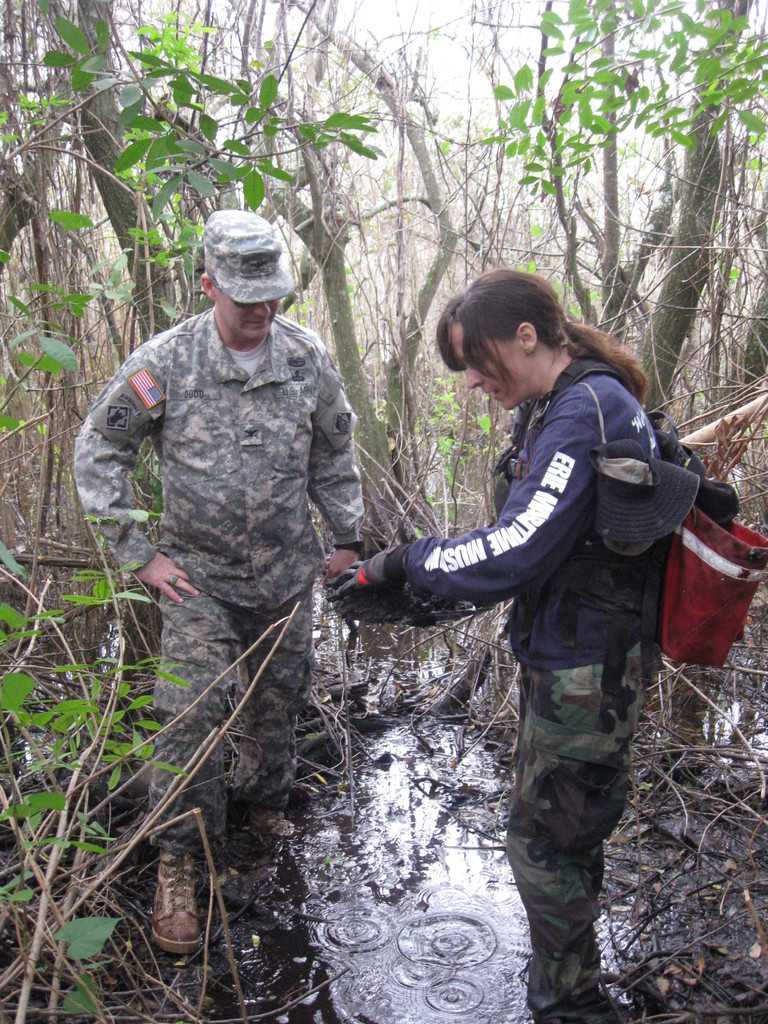Person: (325, 267, 662, 1024), (72, 208, 363, 953)
